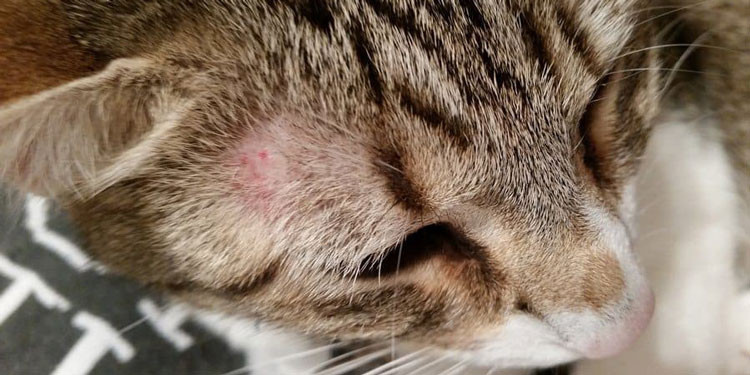ringworm: (230, 120, 296, 209)
